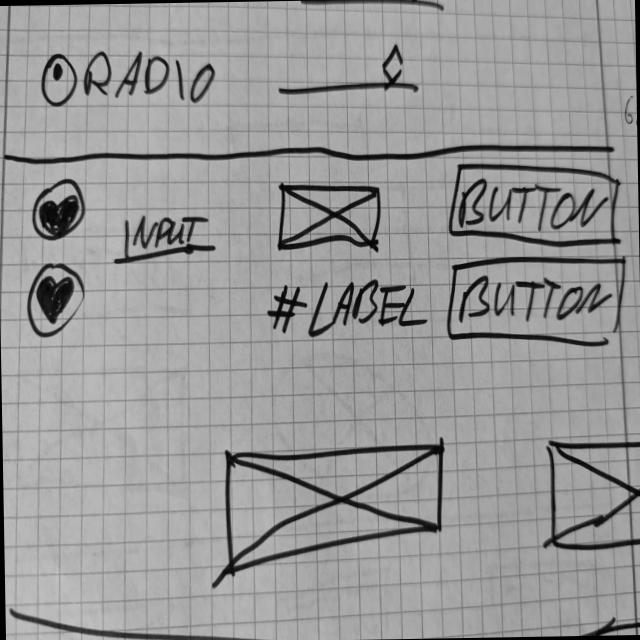button: (445, 255, 630, 351), (446, 159, 625, 252)
container: (1, 137, 640, 640)
image: (222, 438, 451, 577), (545, 435, 640, 551), (274, 181, 384, 255)
input: (111, 211, 218, 269)
label: (266, 276, 431, 341)
number-input: (277, 40, 424, 100), (300, 1, 447, 17)
radio: (39, 45, 220, 114)
